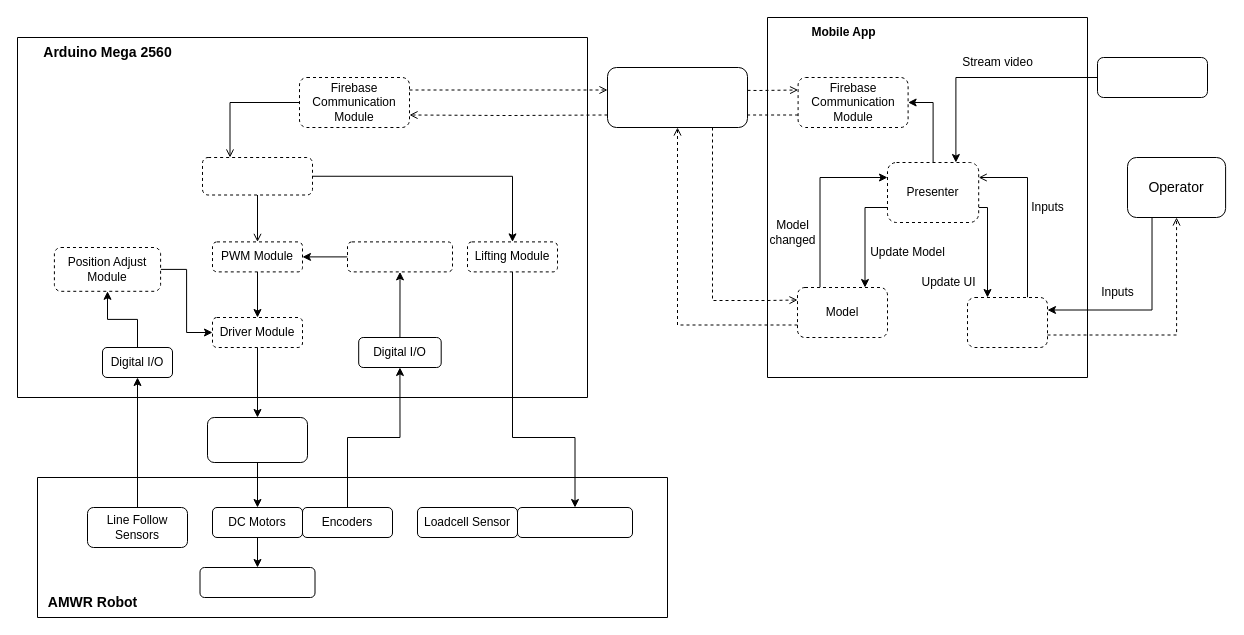
Some shapes in this 1244 by 635 pixel diagram are drawn without their labels. Each missing label, with the centre of its shape:
"Controller Module" goes at point (257, 175).
"Encoder Module" goes at point (399, 256).
"ESP32 Camera" goes at point (1152, 77).
"Firebase Realtime Database" goes at point (677, 97).
"L298N Motor Driver" goes at point (257, 439).
"Lift Motor" goes at point (574, 522).
"Mecanum Wheels" goes at point (257, 582).
"View" goes at point (1007, 322).
